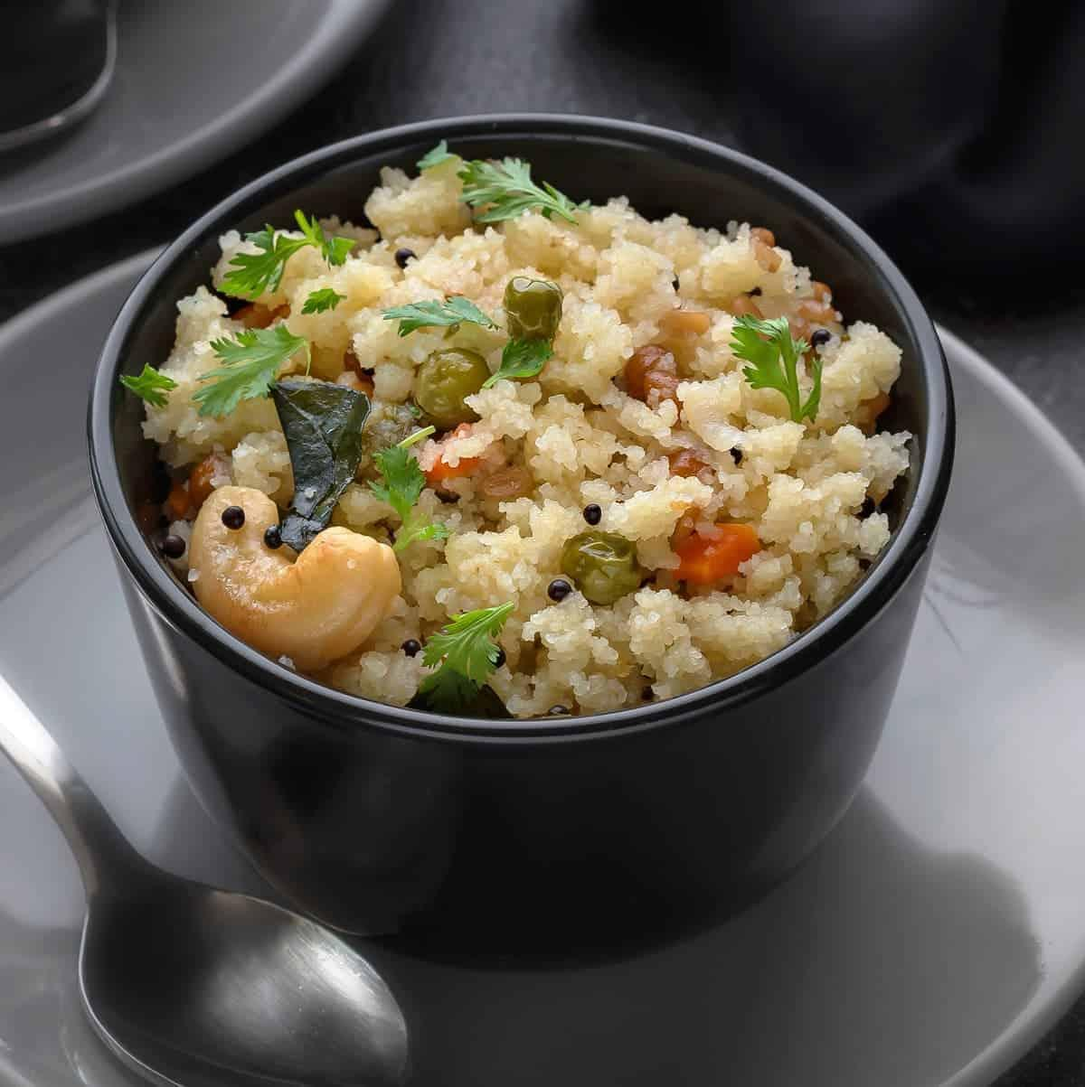upma: (140, 176, 933, 682)
